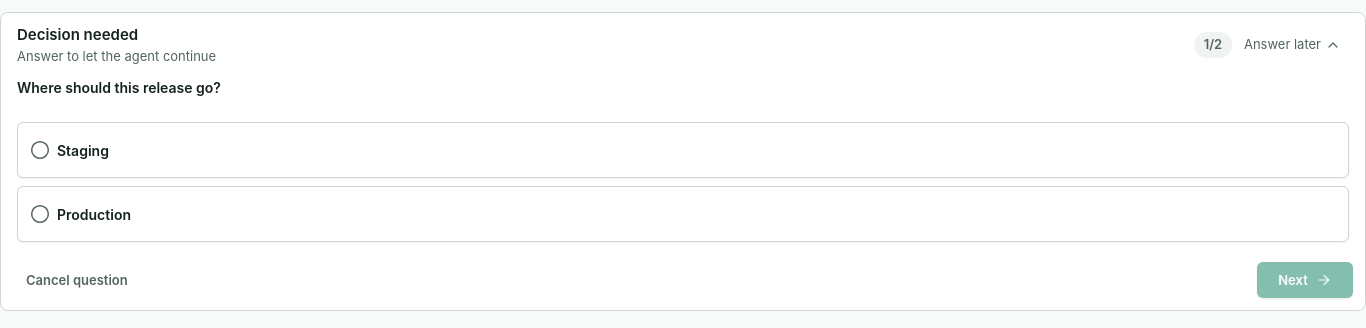
Test: ExtensionUIPanel › preserves earlier answers when moving back through ask_user questions
Click the radio button labelled "Production" at point(94, 214), box [17,186,1349,242]
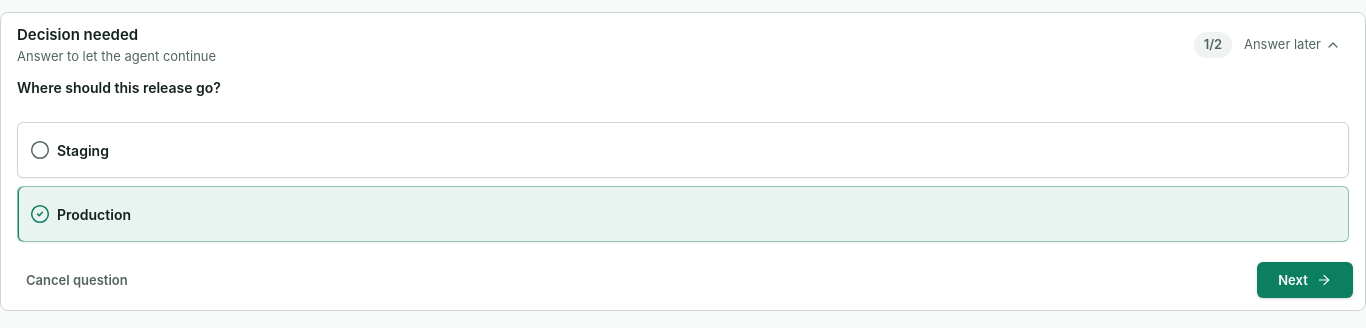
Click the submit button at point(1305, 280), box [1257,262,1353,298]
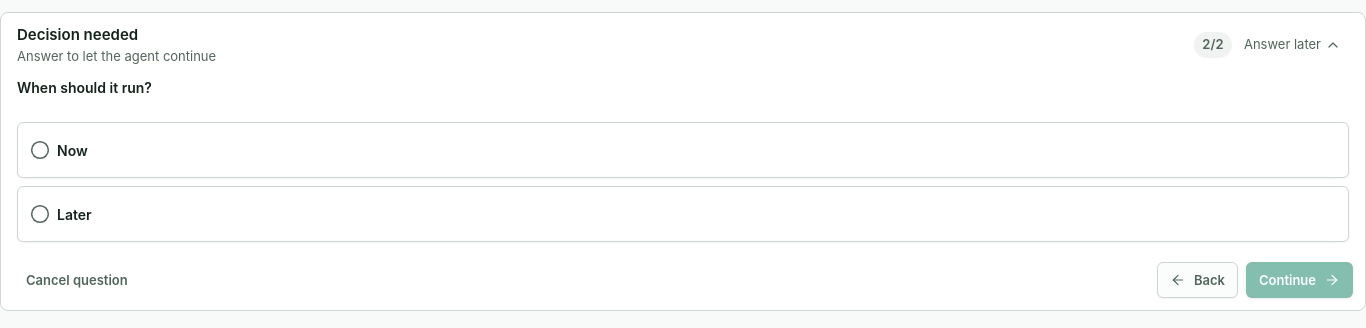
Click the button "Back" at point(1197, 280), box [1157,262,1238,298]
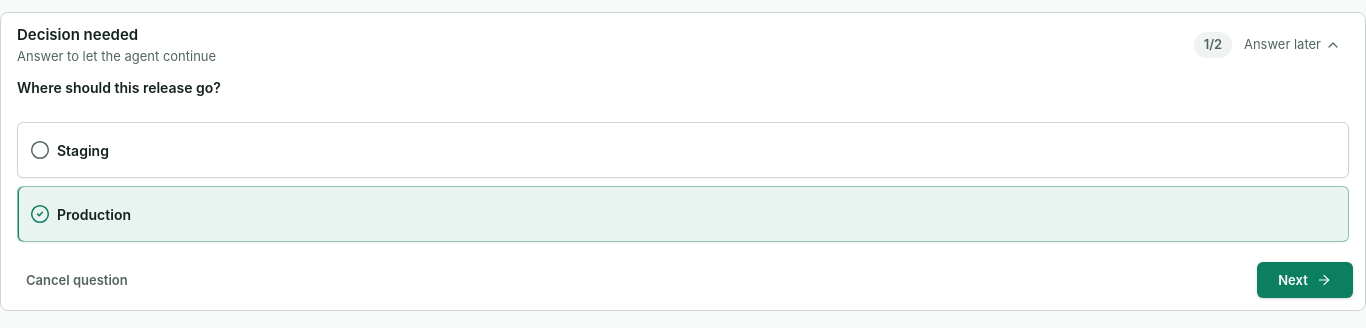
Expected: the text "1 / 2" is shown, [1194,32,1232,58]
